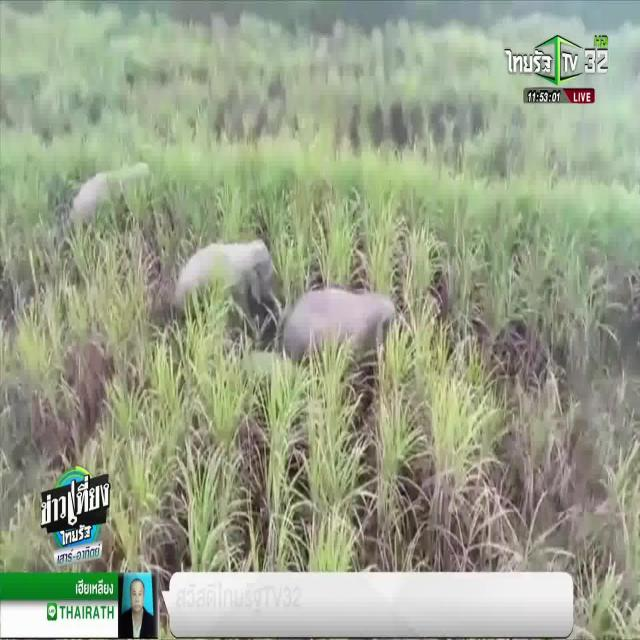Elephant: (189, 241, 276, 316), (292, 290, 396, 350), (75, 151, 145, 221)
